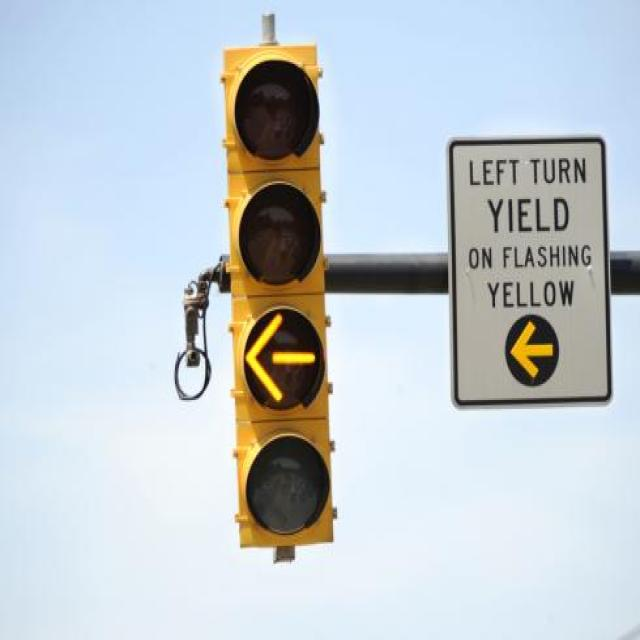green: (238, 298, 332, 416)
